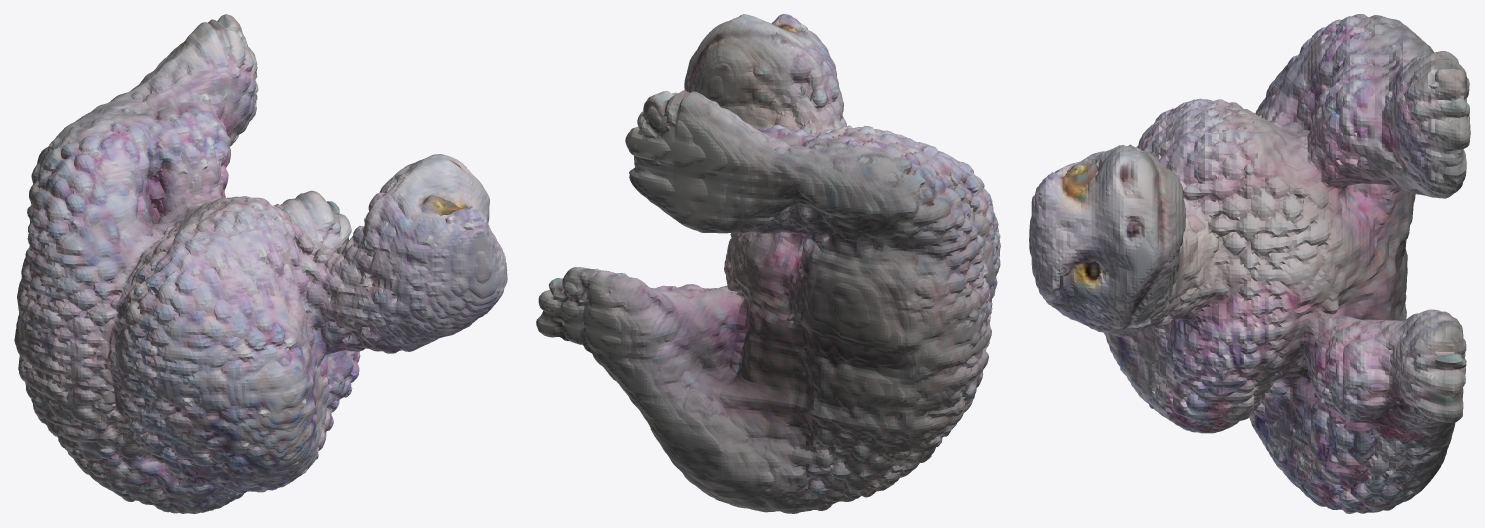
3 renders of one model, left to right at view 1: azimuth 30°, elevation 25°; view 2: azimuth 150°, elevation 25°; view 3: azimuth 270°, elevation 25°, orthographic. The views are drawn at different scales.
Visible parts, largest first — view 1: world; view 2: world; view 3: world.
Part boxes in pixels (<box>): world: <box>14,14,507,513</box>; world: <box>536,14,1000,513</box>; world: <box>1029,14,1470,513</box>.
Bounding box in the file's own units: 0.9318 × 1.01 × 0.8515.
